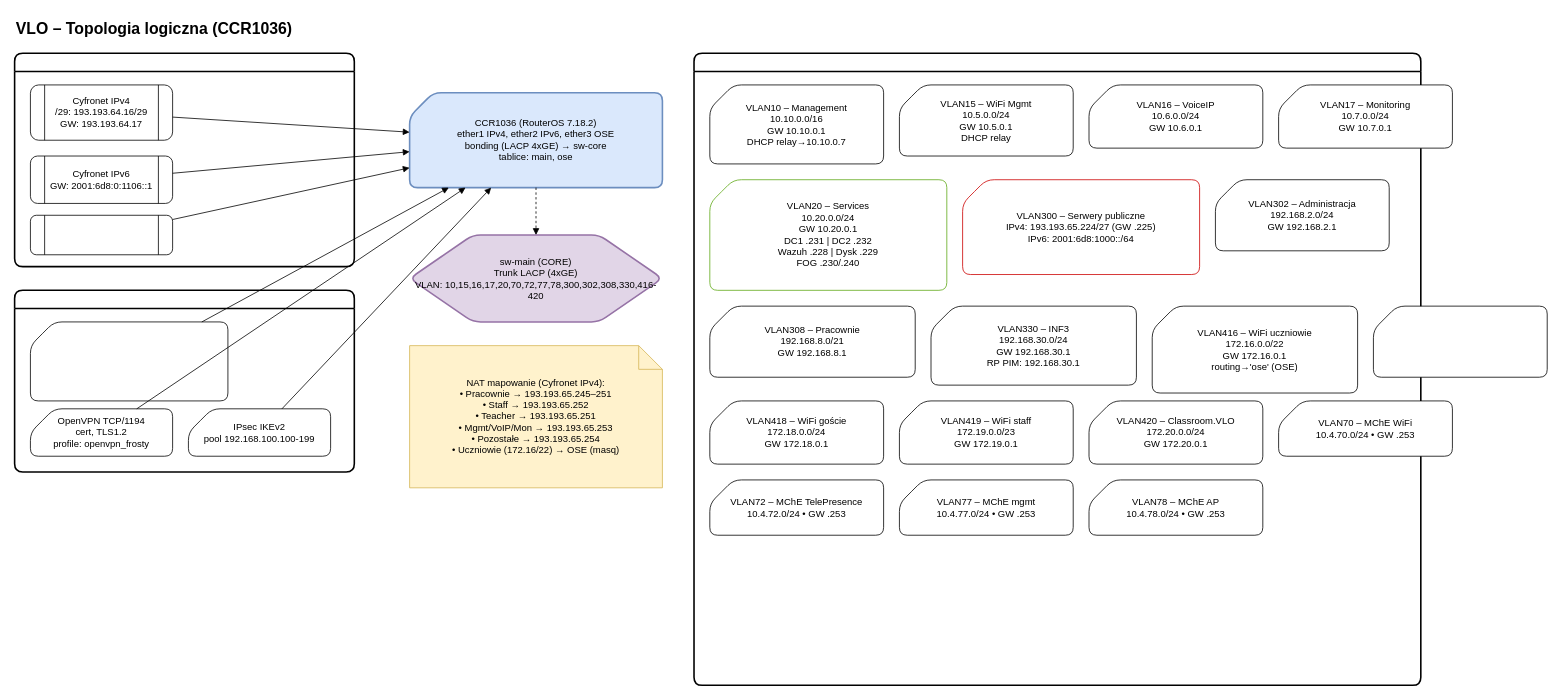
Some shapes in this 1561 by 699 pixel diagram are drawn without their labels. The box of each missing label's shape, as (x1, y1, x2, y2) in pixels:
OSE (Internet uczniowie) ether3 (masq): (30, 214, 173, 255)
Strefy / VLAN: (693, 52, 1421, 686)
VLAN417 – WiFi nauczyciele 172.17.0.0/23 GW 172.17.0.1: (1373, 305, 1547, 377)
VPN / Zarządzanie zdalne: (13, 289, 355, 472)
WAN / Łącza zewnętrzne: (13, 52, 355, 267)
WireGuard-admin 10.10.104.0/24, 172.31.0.0/24 port 13231 peers: pyton, maciej: (30, 321, 228, 401)
